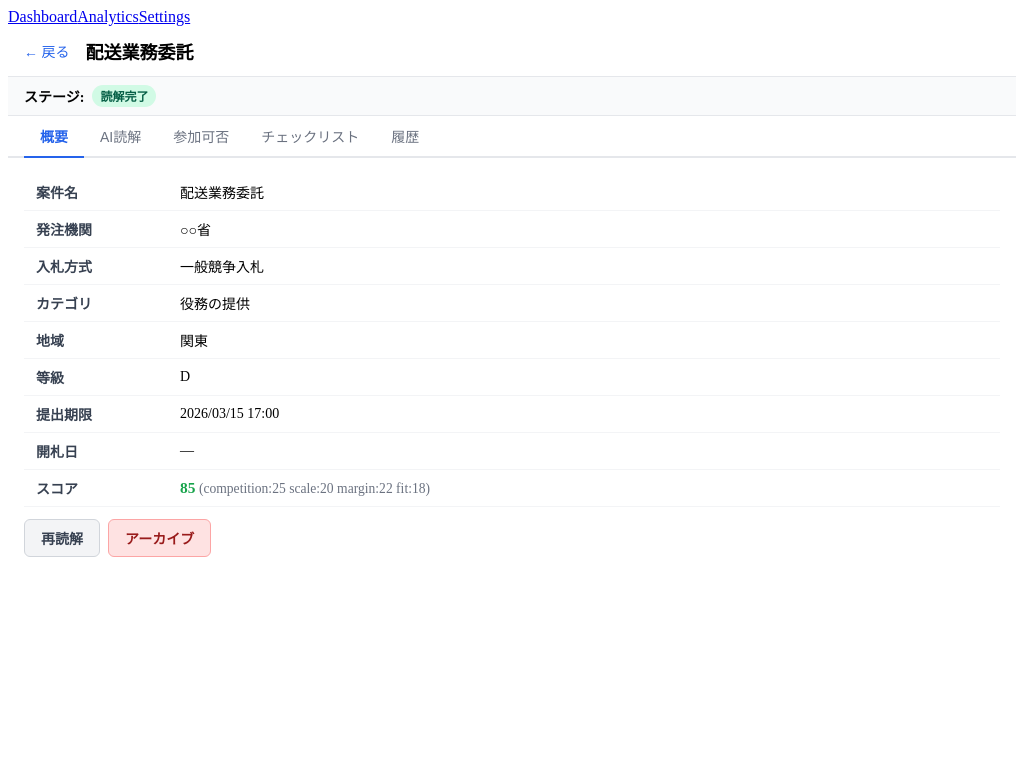
Test: ReadingTab — BusinessContentSection › renders business content section
Click the button with test id "tab-reading". click: [121, 137]
box: [84, 116, 157, 158]
(page scrolled)
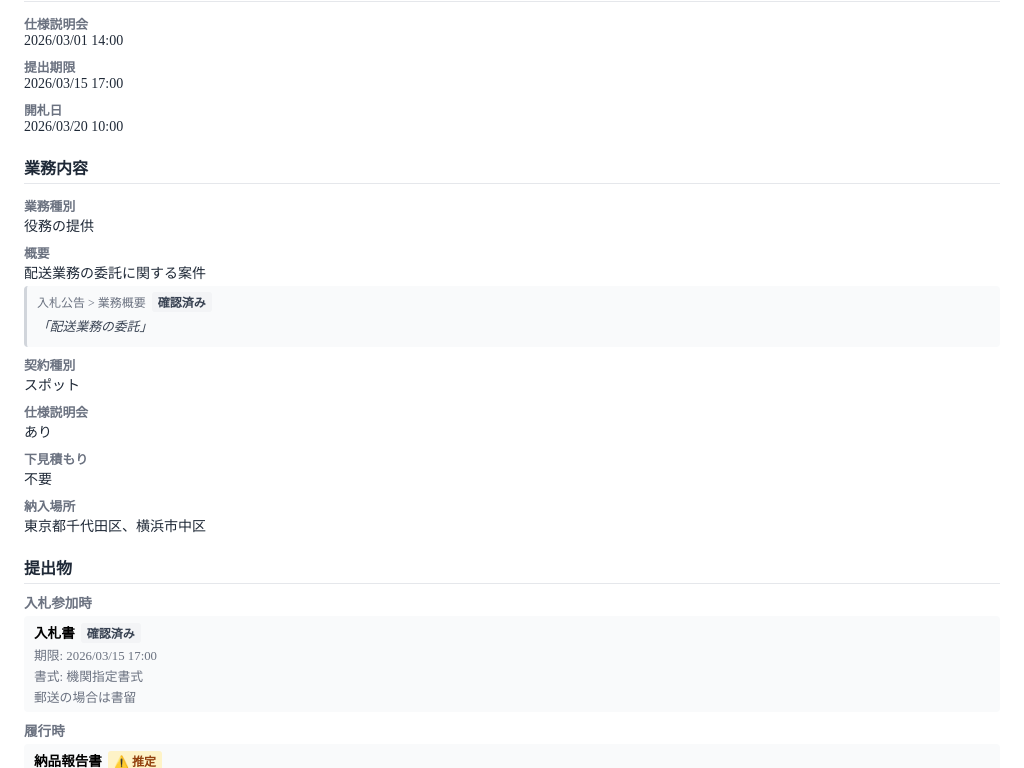
Now the element with test id "section-business_content" is shown, box [24, 155, 1000, 539]
Now the text "配送業務の委託に関する案件" is shown, box [24, 266, 206, 281]
Now the text "スポット" is shown, box [24, 378, 80, 393]
